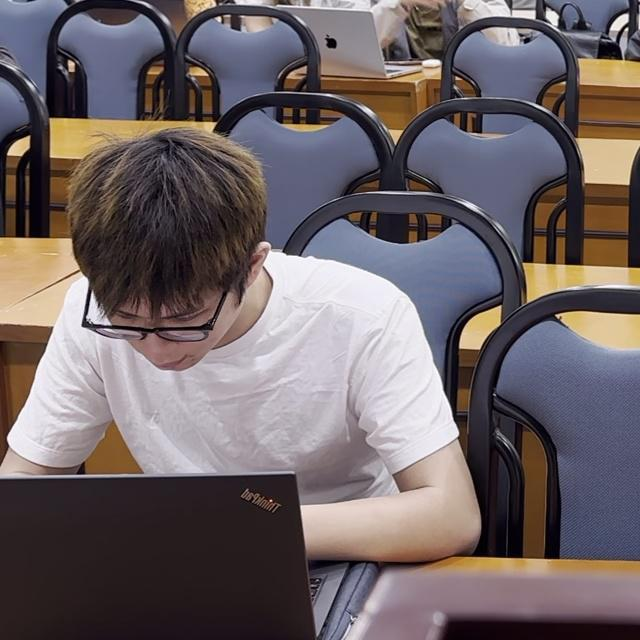Looking away: (95, 293, 245, 372)
